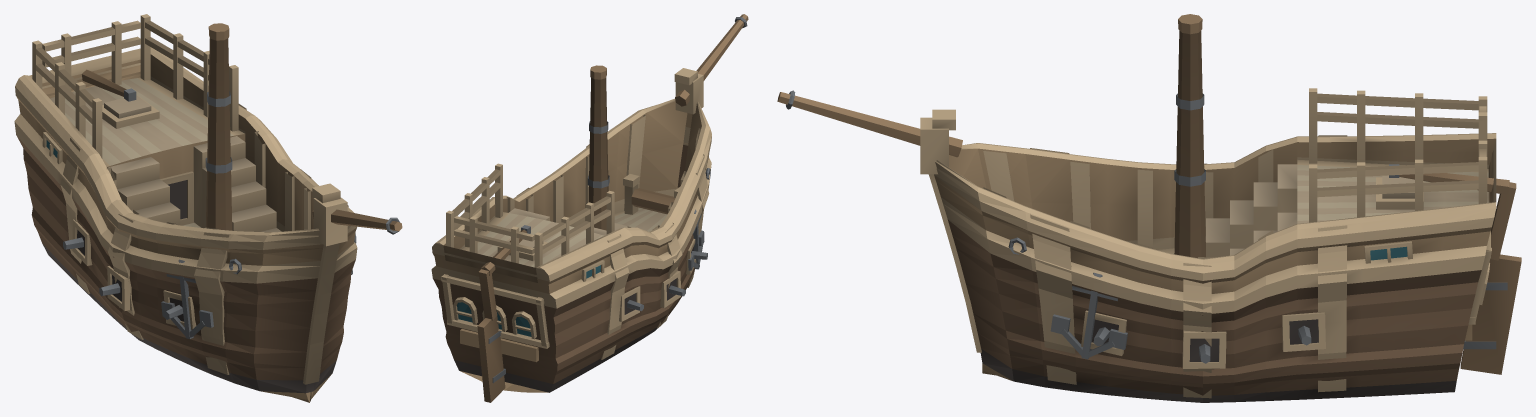
File: hull.glb
The picture shows the model from 3 angles, left to right: view 1: azimuth 30°, elevation 25°; view 2: azimuth 150°, elevation 25°; view 3: azimuth 270°, elevation 25°; orthographic projection. The views are drawn at different scales.
Parts seen in each view (by area): view 1: hull; view 2: hull; view 3: hull.
Boxes of the visible parts, x1,y1,x2,y2 form: hull: (14,14,402,402); hull: (431,14,748,402); hull: (777,14,1521,402).
Size of the model in its own units: 3.71 by 4.92 by 9.37.
